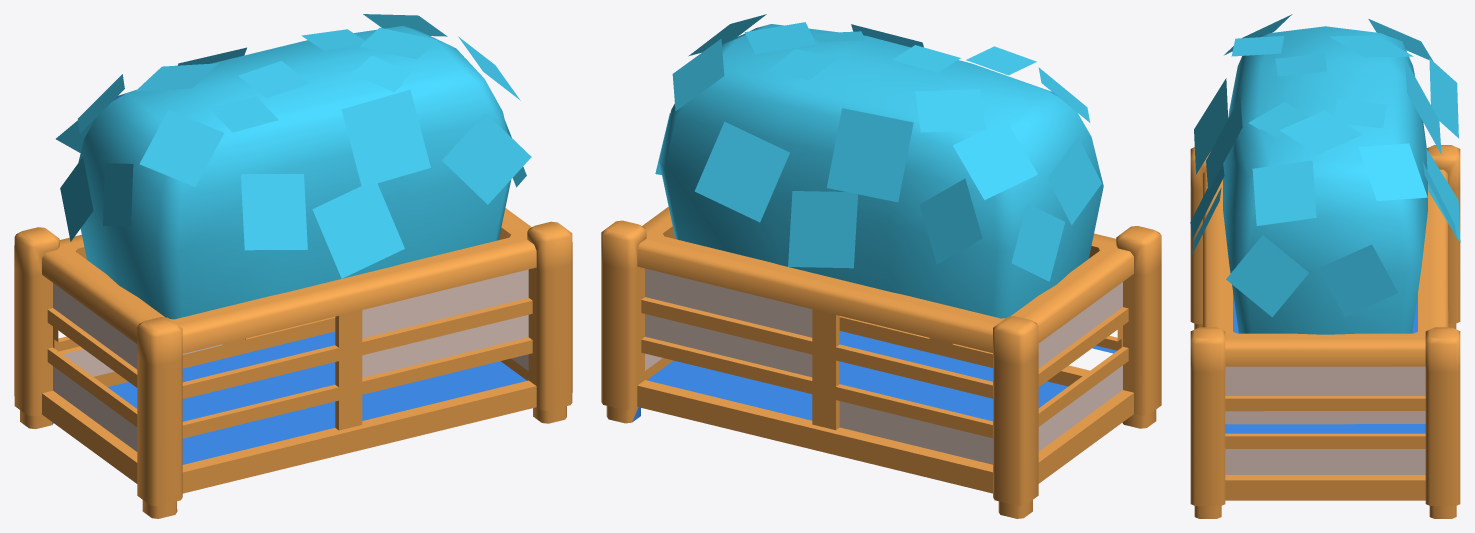
The model's file is Long Bush (2).fbx.
3 views of the same model, side by side, from view 1: azimuth 30°, elevation 25°; view 2: azimuth 150°, elevation 25°; view 3: azimuth 270°, elevation 25° (orthographic). The views are drawn at different scales.
Visible parts, largest first — view 1: Long Bush.001; view 2: Long Bush.001; view 3: Long Bush.001.
Part boxes in pixels (box(x1,y1,x2,y2)): Long Bush.001: box(14, 14, 572, 518); Long Bush.001: box(601, 14, 1161, 518); Long Bush.001: box(1190, 14, 1460, 518).
Size of the model in its own units: 207 by 169 by 120.
